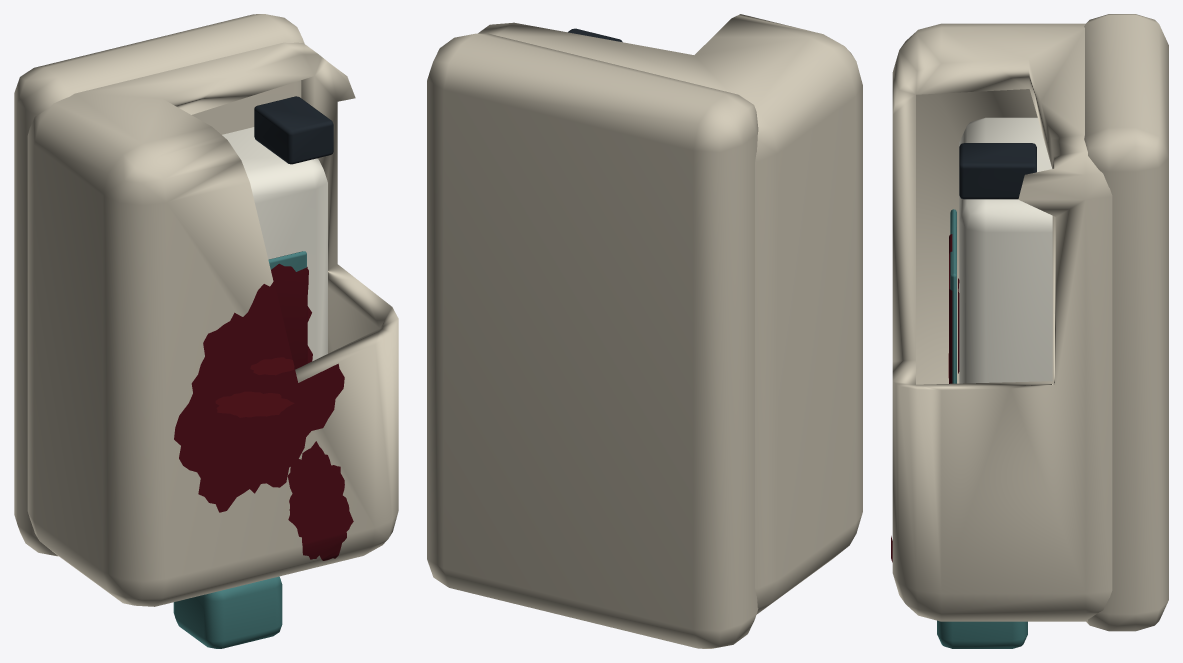
File: soap_dispenser.glb
3 views of the same model, side by side, from view 1: azimuth 30°, elevation 25°; view 2: azimuth 150°, elevation 25°; view 3: azimuth 270°, elevation 25° (orthographic). The views are drawn at different scales.
Visible parts, largest first — view 1: Outbreak_Clinical_Soap_Dispenser_Static; view 2: Outbreak_Clinical_Soap_Dispenser_Static; view 3: Outbreak_Clinical_Soap_Dispenser_Static.
Part boxes in pixels (box(x1,y1,x2,y2)): Outbreak_Clinical_Soap_Dispenser_Static: box(14, 14, 398, 648); Outbreak_Clinical_Soap_Dispenser_Static: box(427, 14, 862, 648); Outbreak_Clinical_Soap_Dispenser_Static: box(891, 14, 1168, 648).
Bounding box in the file's own units: 0.158 × 0.2805 × 0.1253.
